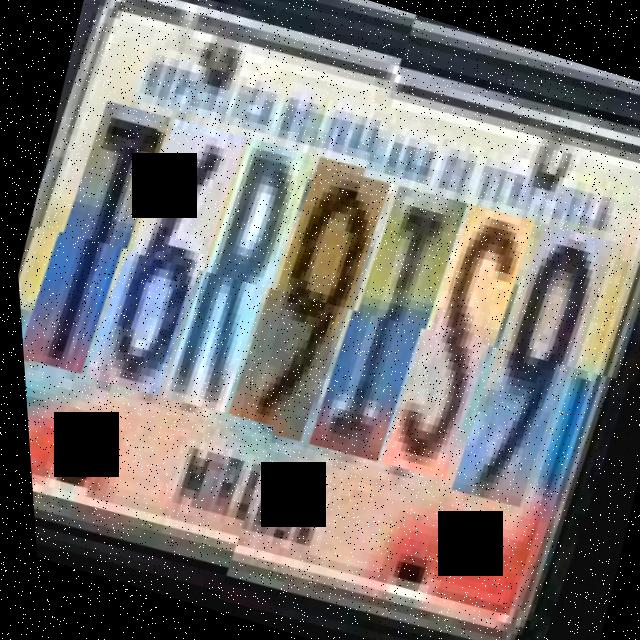6: (75, 121, 259, 415)
9: (441, 221, 625, 524), (218, 160, 403, 454)
I: (300, 182, 480, 474)
R: (151, 142, 327, 434)
S: (372, 201, 547, 493)
T: (7, 103, 182, 394)
